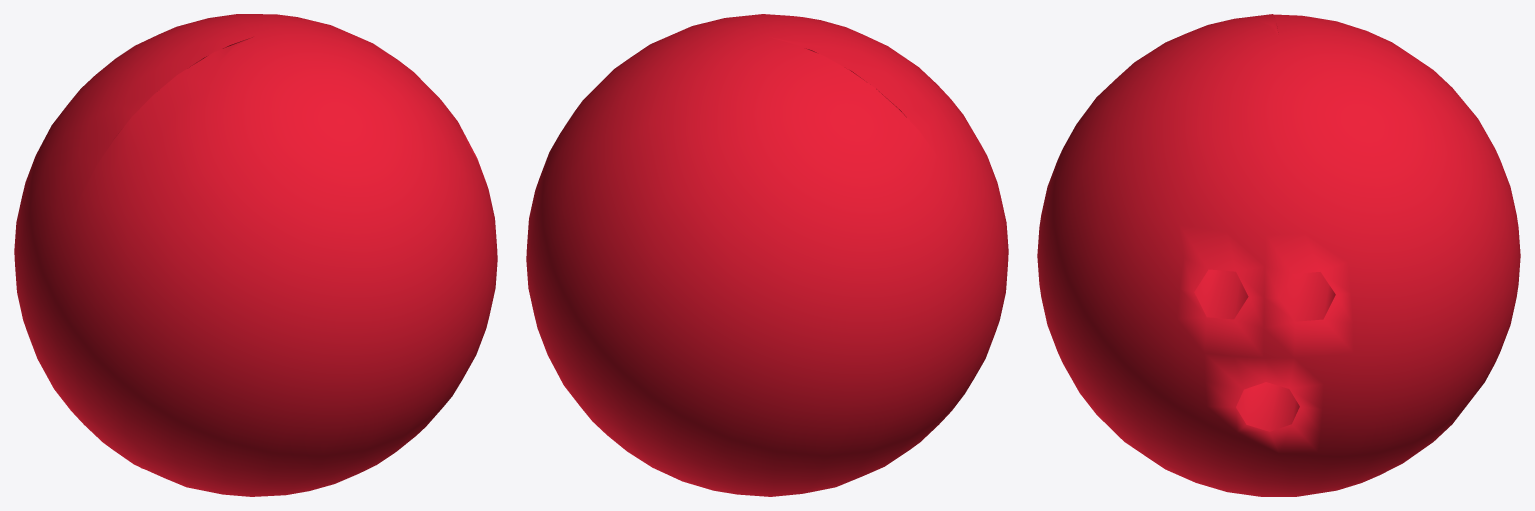
Rendered from BowlingBall3.glb.
3 renders of one model, left to right at view 1: azimuth 30°, elevation 25°; view 2: azimuth 150°, elevation 25°; view 3: azimuth 270°, elevation 25°, orthographic.
Visible parts, largest first — view 1: Sphere.003; view 2: Sphere.003; view 3: Sphere.003.
Boxes of the visible parts, x1,y1,x2,y2 form: Sphere.003: (14, 14, 497, 496); Sphere.003: (526, 14, 1008, 496); Sphere.003: (1037, 14, 1520, 496).
Size of the model in its own units: 0.4519 by 0.4528 by 0.4528.
